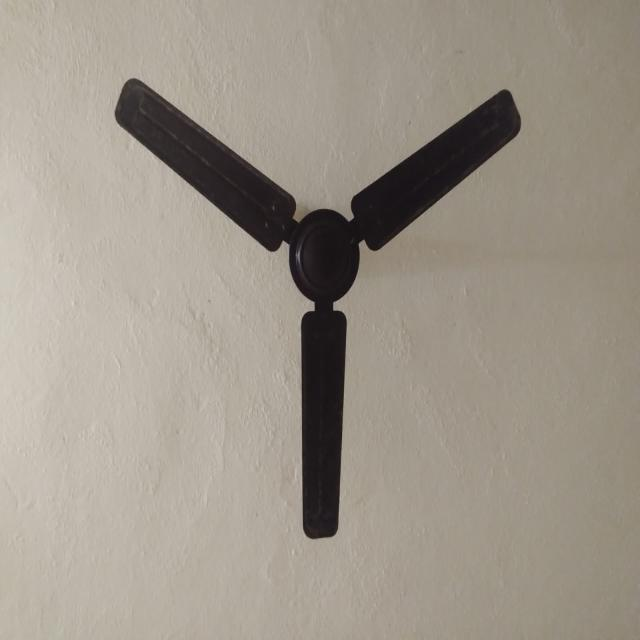fan_off: (115, 74, 525, 540)
